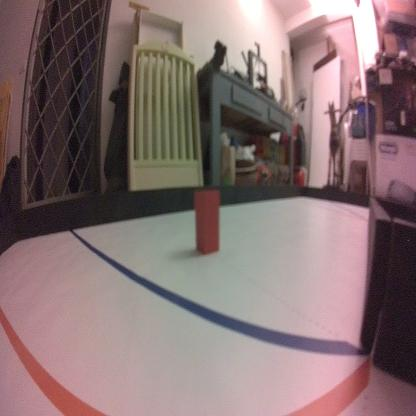red: (193, 186, 221, 257)
